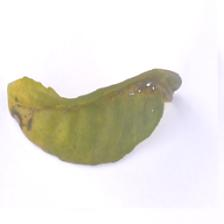greening: (47, 112, 143, 156)
